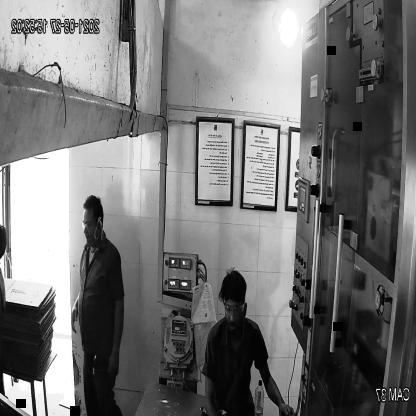goggles: (223, 296, 249, 319), (79, 218, 99, 234)
